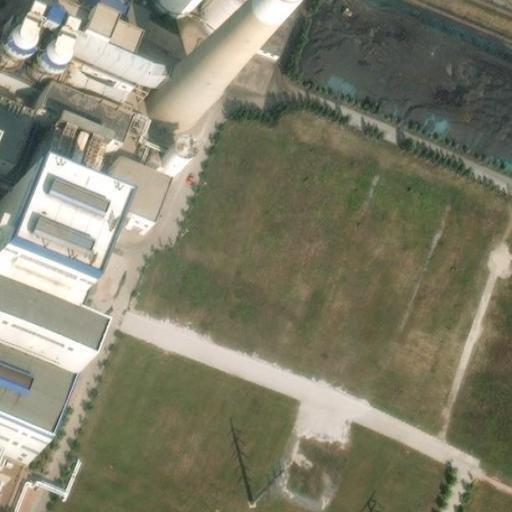building: (72, 22, 171, 88), (42, 72, 135, 135), (98, 150, 170, 212), (53, 288, 99, 358), (29, 0, 98, 26), (14, 16, 41, 43), (50, 29, 77, 56)
